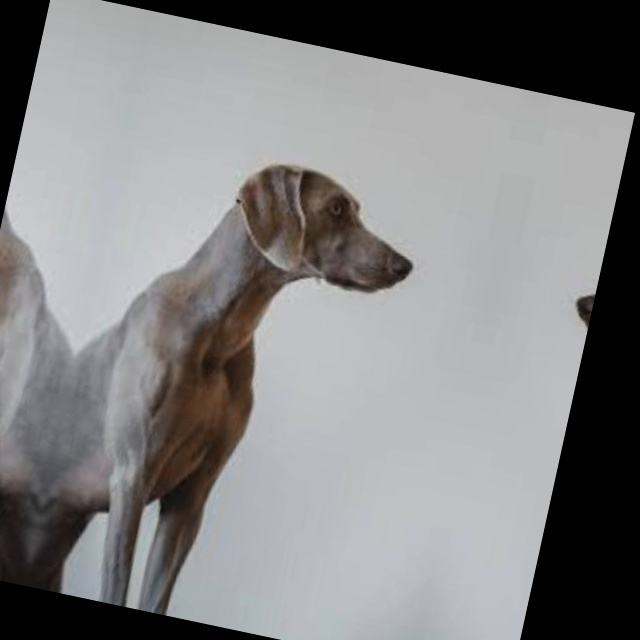dog: (166, 107, 458, 349), (542, 186, 618, 382), (0, 70, 58, 264)
